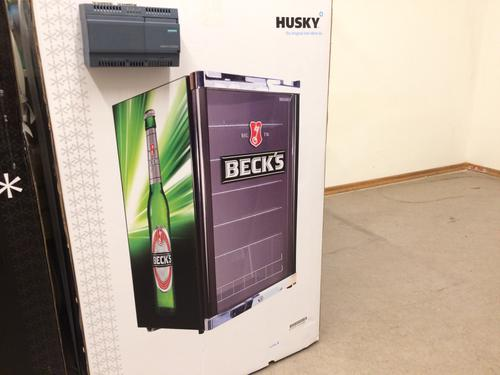iot2000: (78, 2, 182, 69)
